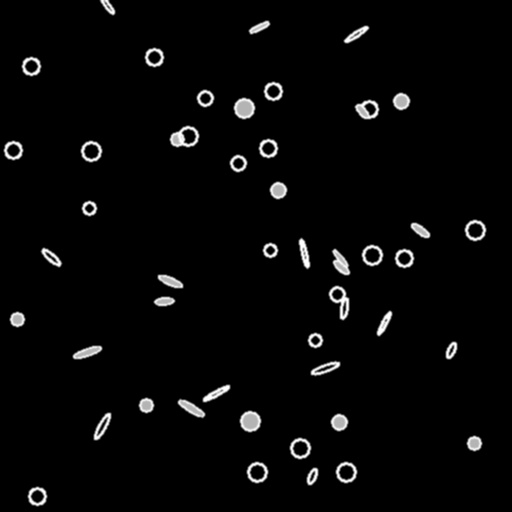pseudomonas: (92, 412, 112, 440), (177, 398, 205, 418), (202, 384, 230, 402), (72, 344, 102, 360), (343, 25, 369, 43), (311, 360, 339, 376), (40, 247, 62, 267), (158, 273, 182, 289), (376, 311, 392, 335), (298, 238, 310, 268), (332, 258, 350, 276), (410, 222, 430, 238), (248, 20, 270, 34), (354, 102, 370, 120), (332, 249, 348, 267), (444, 341, 458, 359), (99, 0, 115, 15), (339, 297, 349, 319), (306, 467, 318, 485), (155, 297, 173, 305)
synechocystis: (337, 463, 355, 481), (363, 246, 381, 264), (179, 127, 197, 145), (82, 142, 100, 160), (248, 463, 266, 481), (235, 99, 253, 117), (241, 412, 259, 430), (291, 439, 309, 457), (466, 221, 484, 239), (146, 49, 162, 65), (260, 140, 276, 156), (396, 250, 412, 266), (361, 101, 377, 117), (265, 83, 281, 99), (29, 488, 45, 504), (5, 142, 21, 158), (23, 58, 39, 74), (198, 91, 212, 105), (394, 94, 408, 108), (330, 287, 344, 301), (332, 415, 346, 429), (271, 183, 285, 197), (231, 156, 245, 170), (83, 202, 95, 214), (264, 244, 276, 256), (468, 437, 480, 449), (171, 133, 183, 145), (140, 399, 152, 411), (309, 334, 321, 346), (11, 313, 23, 325)
